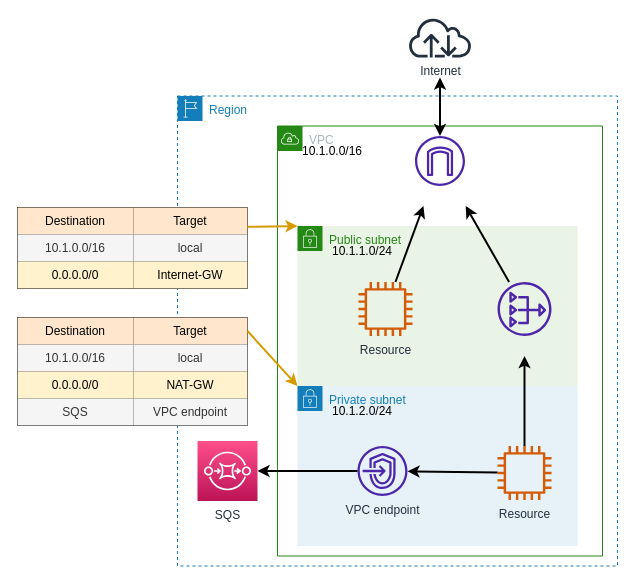
Image size: 635x583. Some labels were removed from this diagram. Each missing label, with the centre of its shape:
"Internet Gateway" goes at (439,161).
"NAT Gateway" goes at (524,309).
